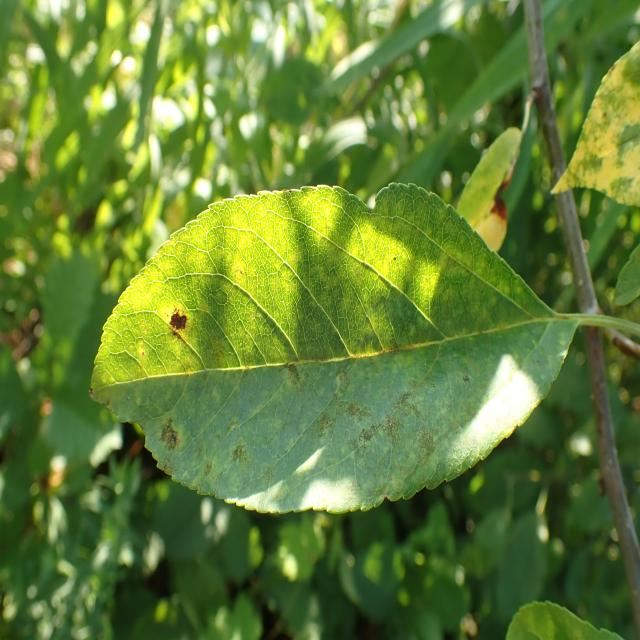scab: (109, 213, 550, 480)
